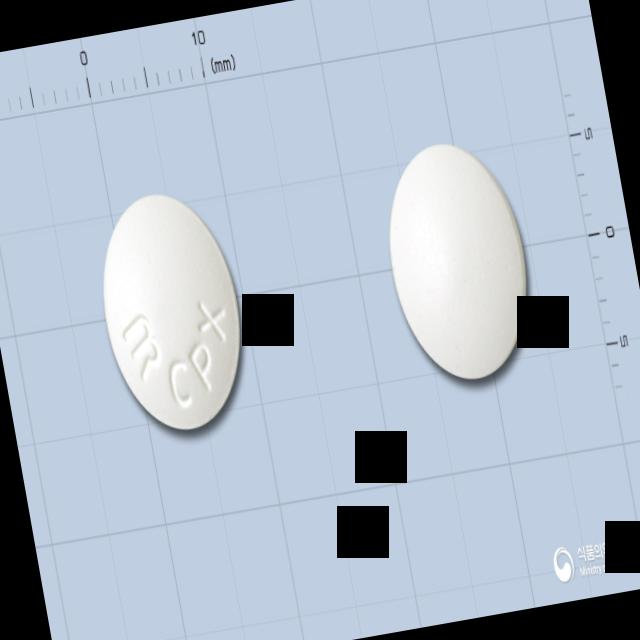Ciprofloxacin Tab- Mirae: (84, 178, 261, 445)
